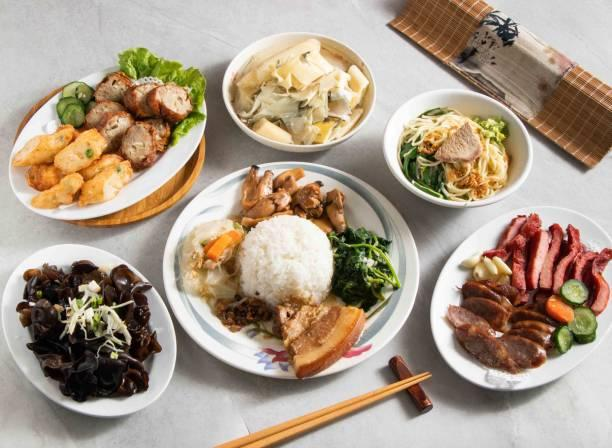Braised Crucian Carp: (162, 162, 414, 379), (429, 207, 612, 393), (0, 242, 175, 418), (10, 66, 205, 222), (221, 31, 375, 153), (383, 88, 533, 208)
